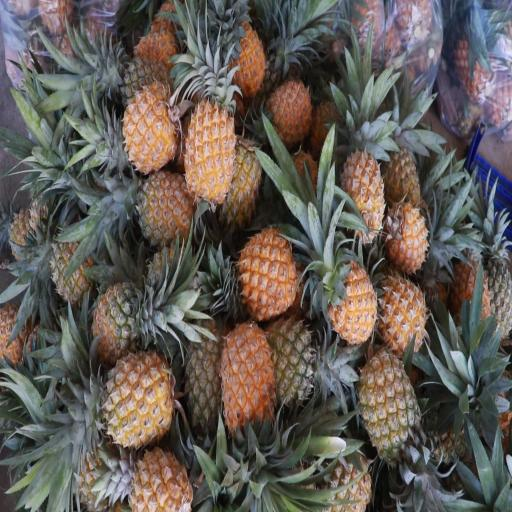------------------------------: (355, 336, 425, 470), (175, 300, 235, 428), (88, 281, 151, 372), (39, 222, 99, 299)
Pineapple - v8 v1: (90, 354, 176, 457), (220, 312, 277, 454), (180, 75, 237, 202), (123, 156, 196, 250), (232, 222, 299, 319), (338, 125, 388, 249), (324, 248, 379, 354), (121, 71, 175, 176), (122, 436, 190, 512), (377, 263, 428, 355), (262, 65, 315, 147), (383, 195, 432, 279), (223, 4, 267, 88)
